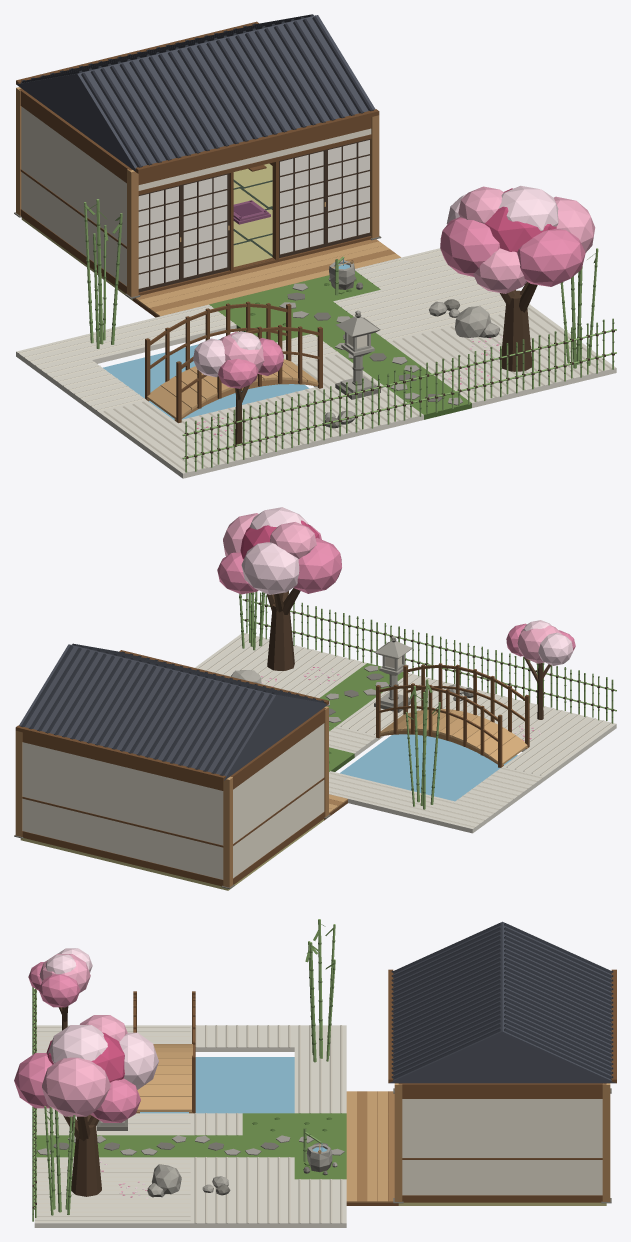
Rendered from scene_teahouse.glb.
3 views of the same model, one above another, from view 1: azimuth 30°, elevation 25°; view 2: azimuth 150°, elevation 25°; view 3: azimuth 270°, elevation 25° (orthographic). The views are drawn at different scales.
Parts seen in each view (by area): view 1: sakura_tree_sakura_a.001, sakura_roof_eave_1m.002, sakura_garden_bridge_3m.001, sakura_door_shoji_1m.002, sakura_door_shoji_1m.003, sakura_roof_eave_1m.004, sakura_roof_eave_1m.006, sakura_roof_eave_1m.010, sakura_roof_eave_1m.008, sakura_door_shoji_1m.004, sakura_door_shoji_1m.001, sakura_tree_sakura_b.001 (+76 smaller); view 2: sakura_tree_sakura_a.001, sakura_garden_bridge_3m.001, sakura_roof_eave_1m.001, sakura_wall_plain_1m.002, sakura_wall_plain_1m.004, sakura_wall_plain_1m.003, sakura_roof_eave_1m.005, sakura_roof_eave_1m.009, sakura_roof_eave_1m.003, sakura_roof_eave_1m.007, sakura_wall_plain_1m.005, sakura_wall_plain_1m.001 (+47 smaller); view 3: sakura_tree_sakura_a.001, sakura_wall_plain_1m.009, sakura_wall_plain_1m.011, sakura_wall_plain_1m.007, sakura_wall_plain_1m.013, sakura_roof_eave_1m.009, sakura_roof_eave_1m.010, sakura_garden_bridge_3m.001, sakura_tree_sakura_b.001, sakura_roof_eave_1m.002, sakura_roof_eave_1m.003, sakura_roof_eave_1m.006 (+59 smaller).
Boxes of the visible parts, x1,y1,x2,y2 form: sakura_tree_sakura_a.001: [440, 185, 595, 371]; sakura_roof_eave_1m.002: [77, 62, 186, 173]; sakura_garden_bridge_3m.001: [145, 301, 322, 423]; sakura_door_shoji_1m.002: [181, 151, 230, 285]; sakura_door_shoji_1m.003: [278, 128, 327, 261]; sakura_roof_eave_1m.004: [125, 50, 234, 161]; sakura_roof_eave_1m.006: [174, 38, 282, 150]; sakura_roof_eave_1m.010: [270, 15, 379, 126]; sakura_roof_eave_1m.008: [222, 27, 330, 138]; sakura_door_shoji_1m.004: [326, 117, 371, 249]; sakura_door_shoji_1m.001: [138, 163, 182, 295]; sakura_tree_sakura_b.001: [193, 331, 283, 444]; sakura_tree_sakura_a.001: [217, 507, 341, 670]; sakura_garden_bridge_3m.001: [376, 663, 529, 767]; sakura_roof_eave_1m.001: [182, 685, 276, 781]; sakura_wall_plain_1m.002: [143, 762, 185, 877]; sakura_wall_plain_1m.004: [60, 742, 102, 856]; sakura_wall_plain_1m.003: [102, 752, 143, 867]; sakura_roof_eave_1m.005: [98, 664, 192, 760]; sakura_roof_eave_1m.009: [15, 644, 109, 740]; sakura_roof_eave_1m.003: [140, 674, 234, 770]; sakura_roof_eave_1m.007: [57, 654, 151, 750]; sakura_wall_plain_1m.005: [22, 732, 60, 846]; sakura_wall_plain_1m.001: [185, 772, 223, 886]; sakura_tree_sakura_a.001: [14, 1015, 158, 1196]; sakura_wall_plain_1m.009: [450, 1083, 502, 1202]; sakura_wall_plain_1m.011: [502, 1083, 554, 1202]; sakura_wall_plain_1m.007: [398, 1083, 450, 1202]; sakura_wall_plain_1m.013: [554, 1083, 606, 1202]; sakura_roof_eave_1m.009: [502, 1010, 616, 1083]; sakura_roof_eave_1m.010: [388, 1009, 502, 1083]; sakura_garden_bridge_3m.001: [133, 991, 195, 1113]; sakura_tree_sakura_b.001: [28, 948, 92, 1030]; sakura_roof_eave_1m.002: [388, 922, 502, 992]; sakura_roof_eave_1m.003: [502, 944, 616, 1014]; sakura_roof_eave_1m.006: [388, 966, 502, 1036].
Bounding box in the file's own units: 9 × 3.91 × 11.6.
1 material, 1 textured.
